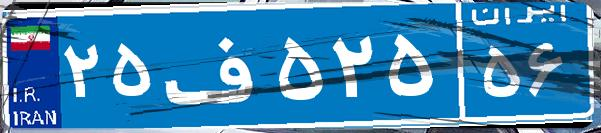2: (330, 28, 385, 110), (57, 26, 110, 107)
5: (385, 28, 445, 110), (273, 28, 330, 110), (475, 38, 525, 113), (110, 28, 158, 105)
6: (525, 38, 570, 115)
ف: (158, 15, 273, 115)
